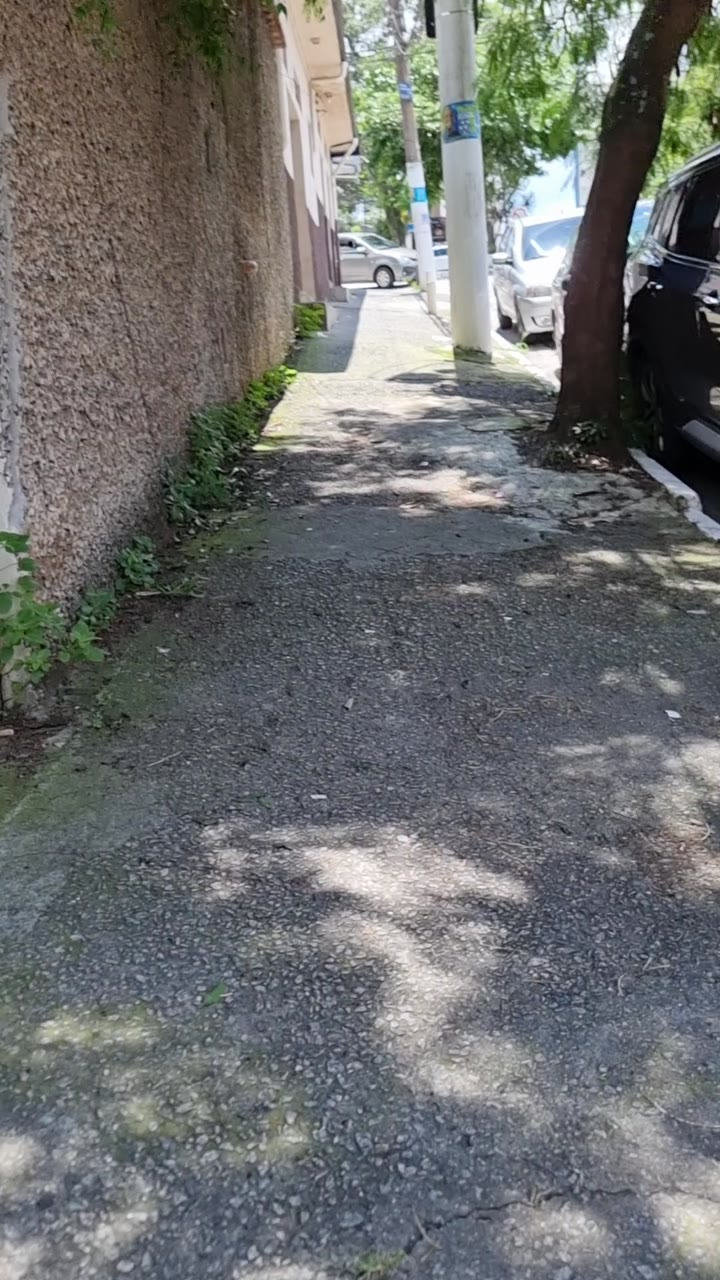obstaculo: (554, 64, 648, 461), (432, 0, 504, 358)
